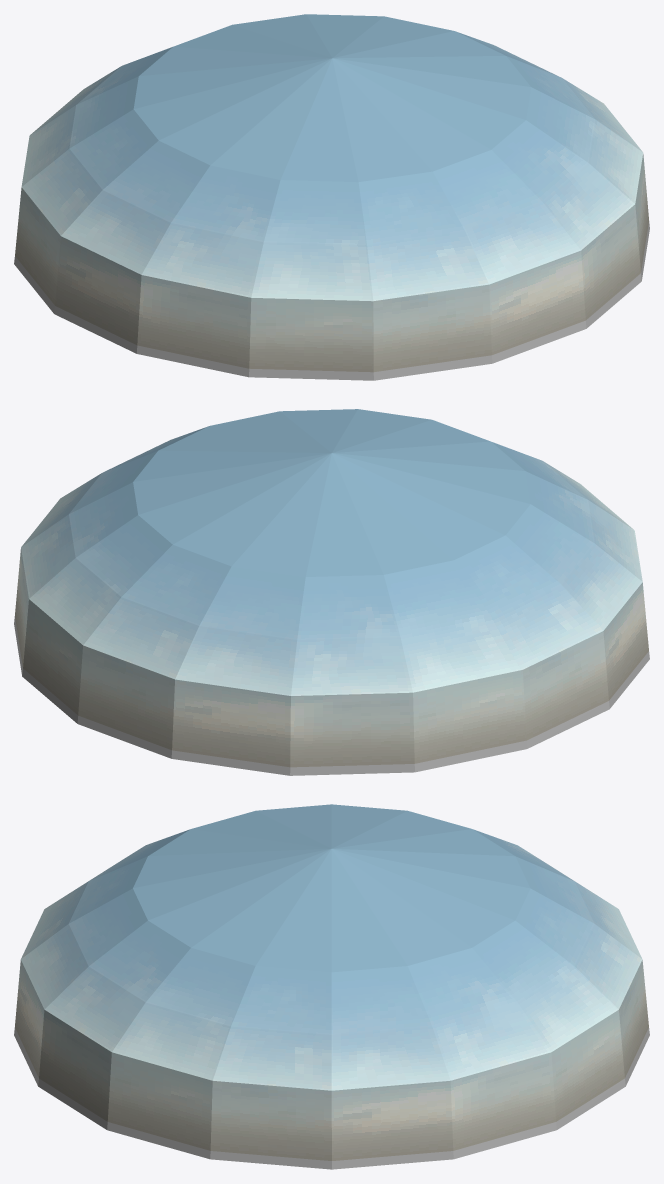
3 views of the same model, one above another, from view 1: azimuth 30°, elevation 25°; view 2: azimuth 150°, elevation 25°; view 3: azimuth 270°, elevation 25° (orthographic).
Parts seen in each view (by area): view 1: mesh00; view 2: mesh00; view 3: mesh00.
Boxes of the visible parts, bbox=[...] form: mesh00: bbox=[14, 14, 649, 380]; mesh00: bbox=[14, 409, 649, 775]; mesh00: bbox=[14, 804, 649, 1169].
Bounding box in the file's own units: 106690 × 39835 × 106690.
